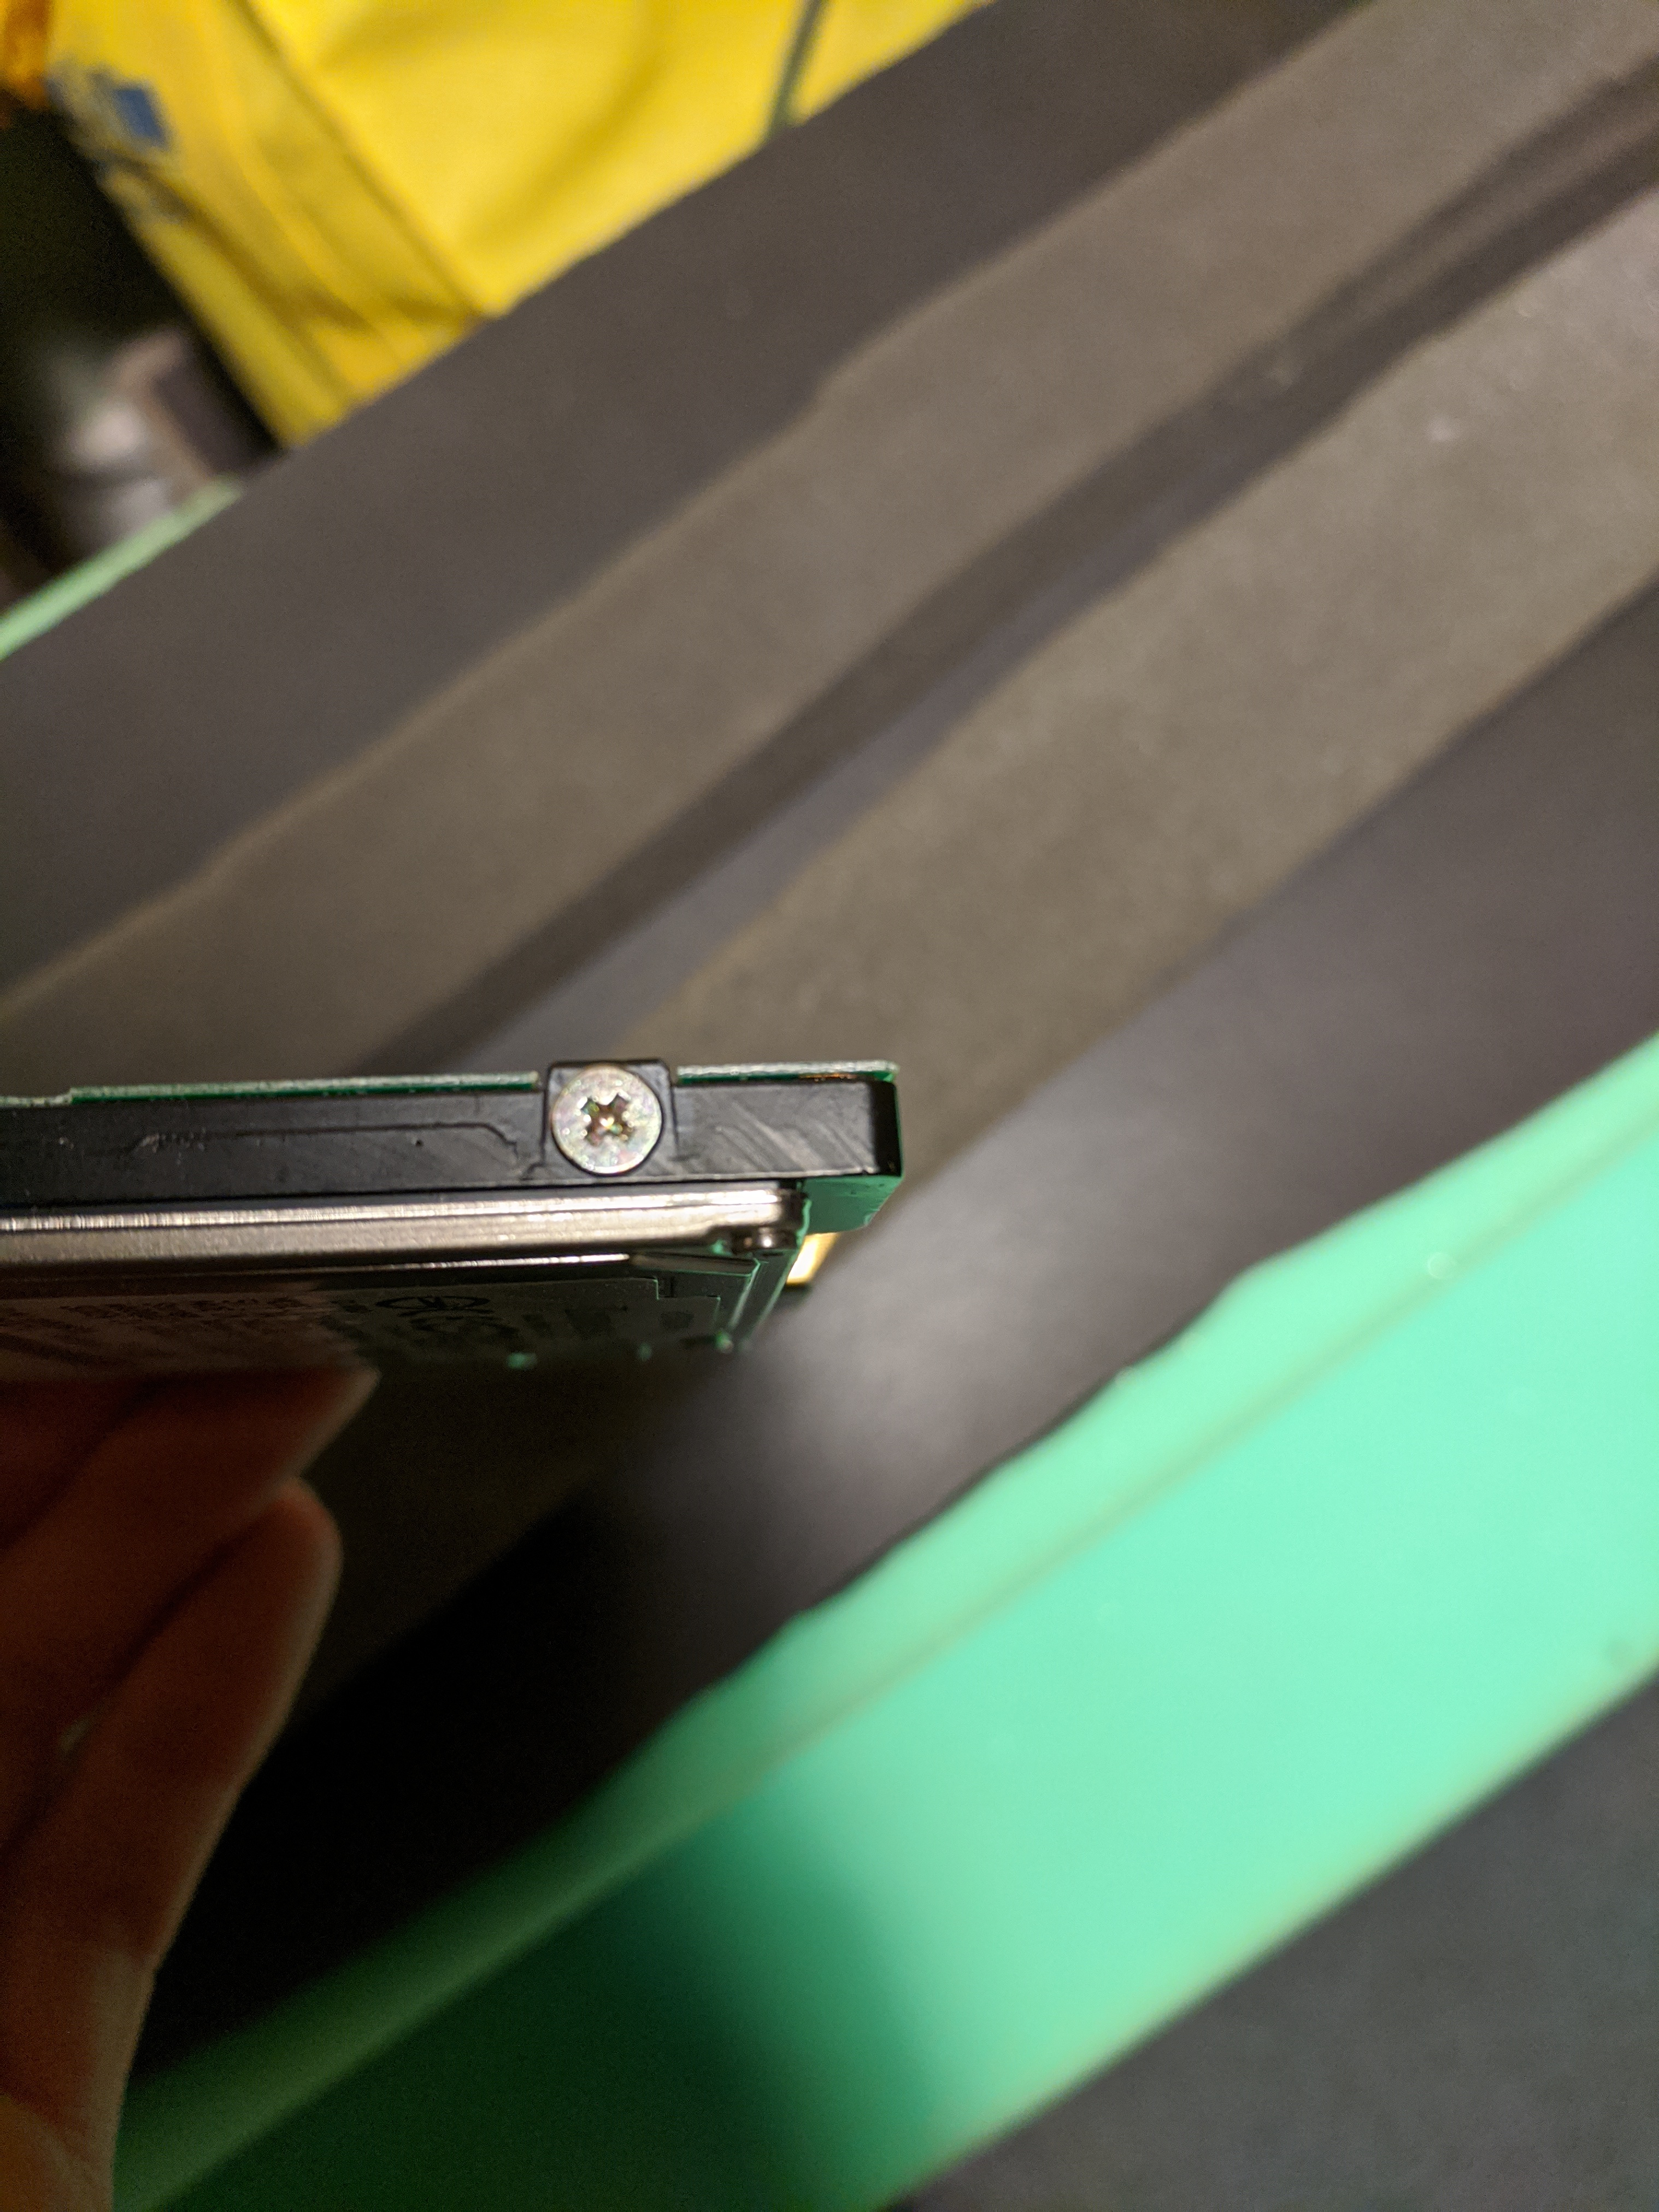cross_recessed_screw: (537, 1054, 666, 1181)
